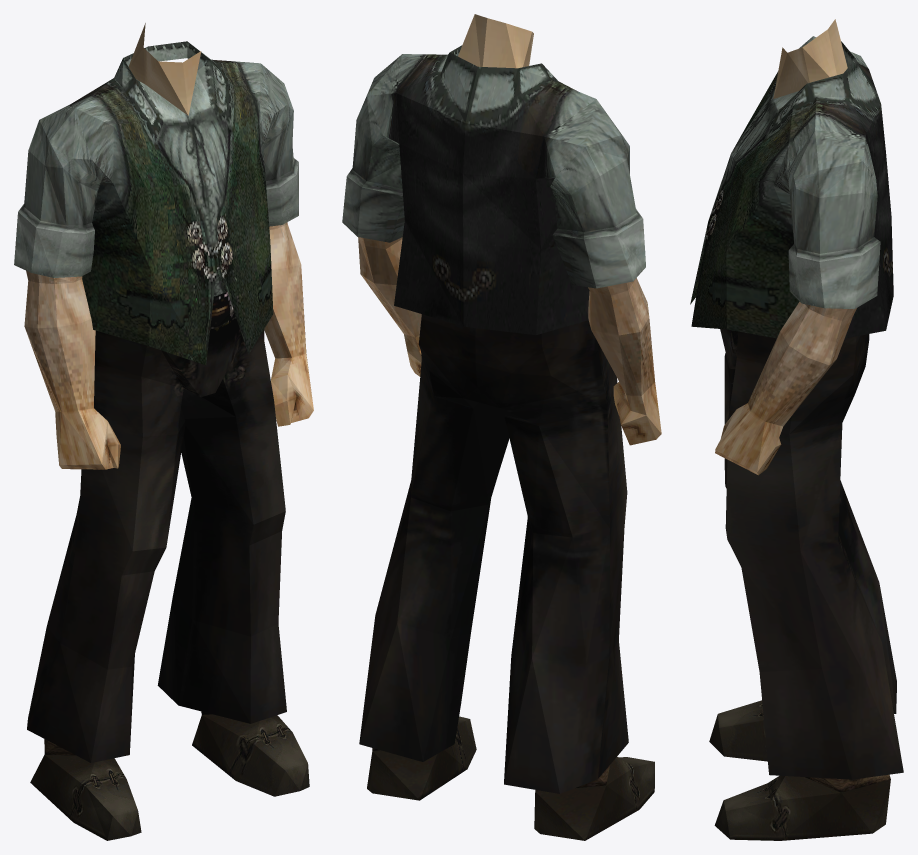
The model's file is Armor_BAU_Mzm_Bauer.glb.
The picture shows the model from 3 angles, left to right: view 1: azimuth 30°, elevation 25°; view 2: azimuth 150°, elevation 25°; view 3: azimuth 270°, elevation 25°; orthographic projection. The views are drawn at different scales.
Parts seen in each view (by area): view 1: Armor_BAU_Mzm_Bauer; view 2: Armor_BAU_Mzm_Bauer; view 3: Armor_BAU_Mzm_Bauer.
Part boxes in pixels (x1=…): Armor_BAU_Mzm_Bauer: x1=14, y1=23, x2=313, y2=840; Armor_BAU_Mzm_Bauer: x1=342, y1=14, x2=661, y2=840; Armor_BAU_Mzm_Bauer: x1=690, y1=19, x2=903, y2=840.
Size of the model in its own units: 0.6415 by 1.69 by 0.4237.
2 materials, 2 textured.
